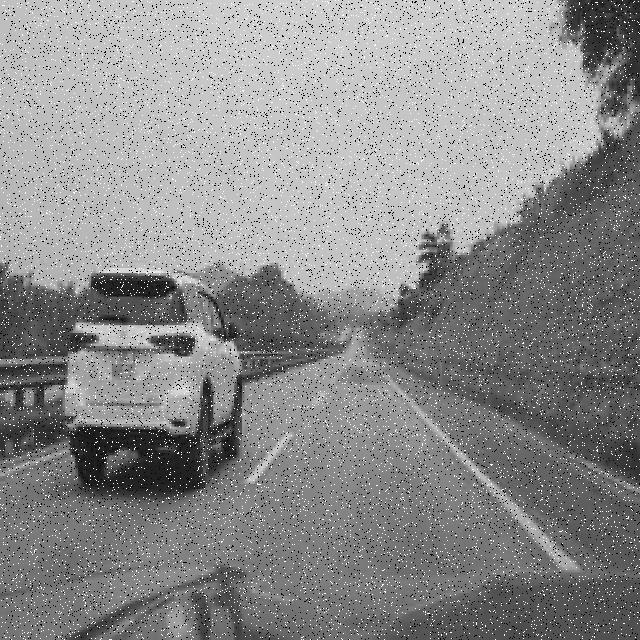clear-road: (0, 342, 556, 595), (380, 362, 640, 575)
